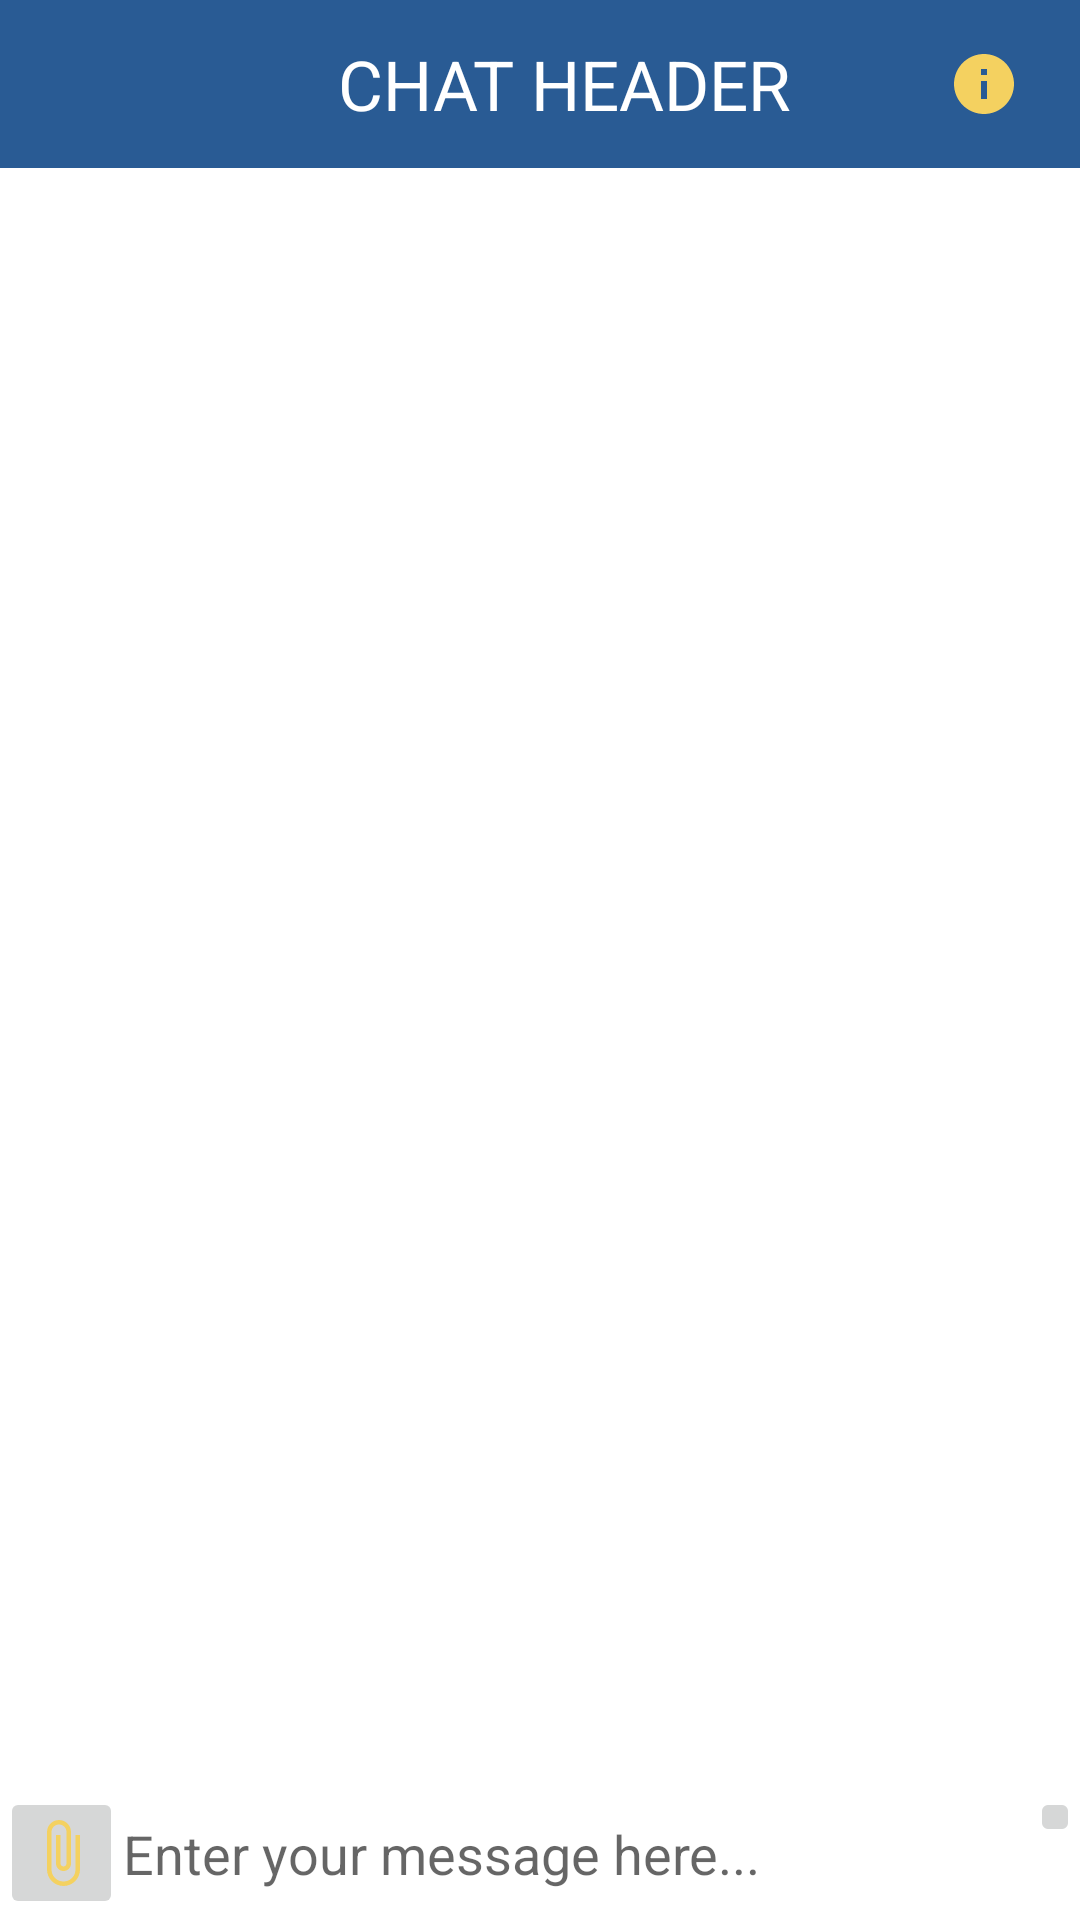

Named icons in this screenshot (1080*1920) and their centers, [x,y]:
attach file: [61,1853]
info: [984,84]
